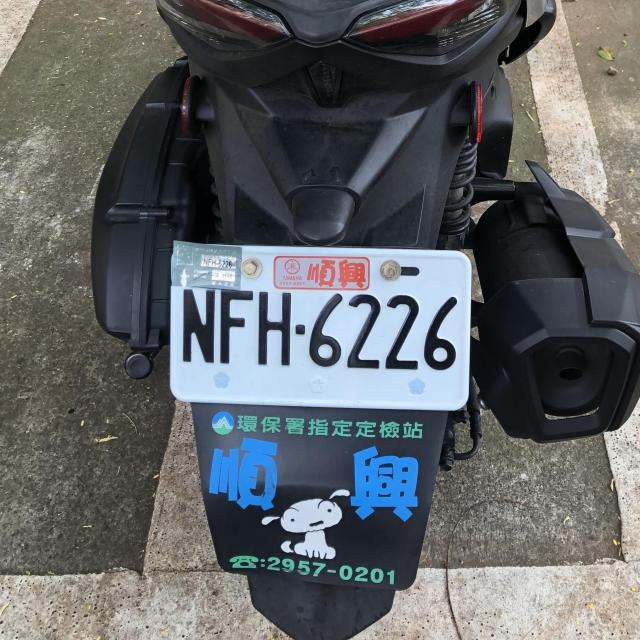W: (163, 240, 471, 412)
